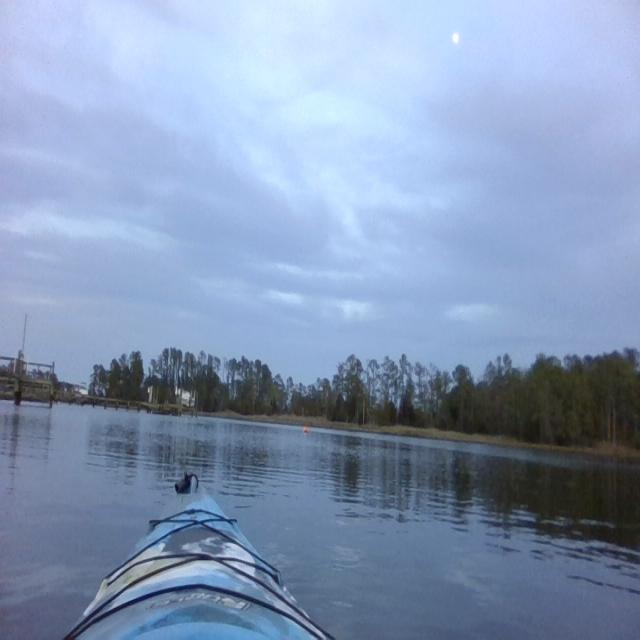Buoy: (302, 424, 308, 436)
